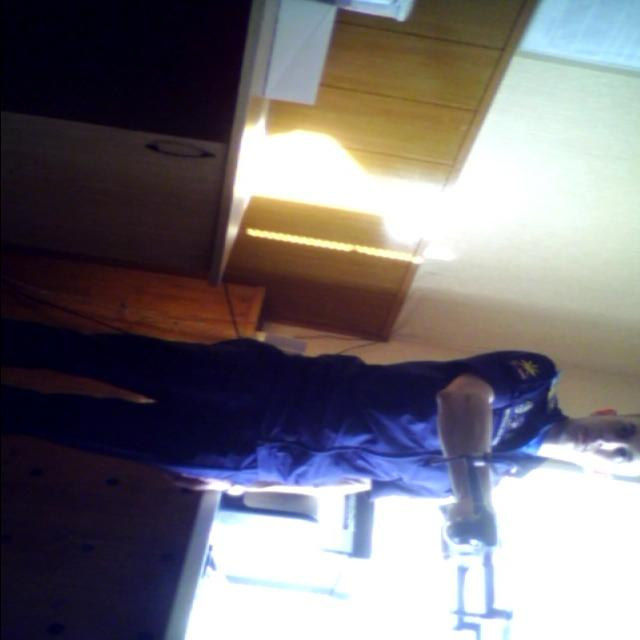drone: (414, 441, 552, 640)
